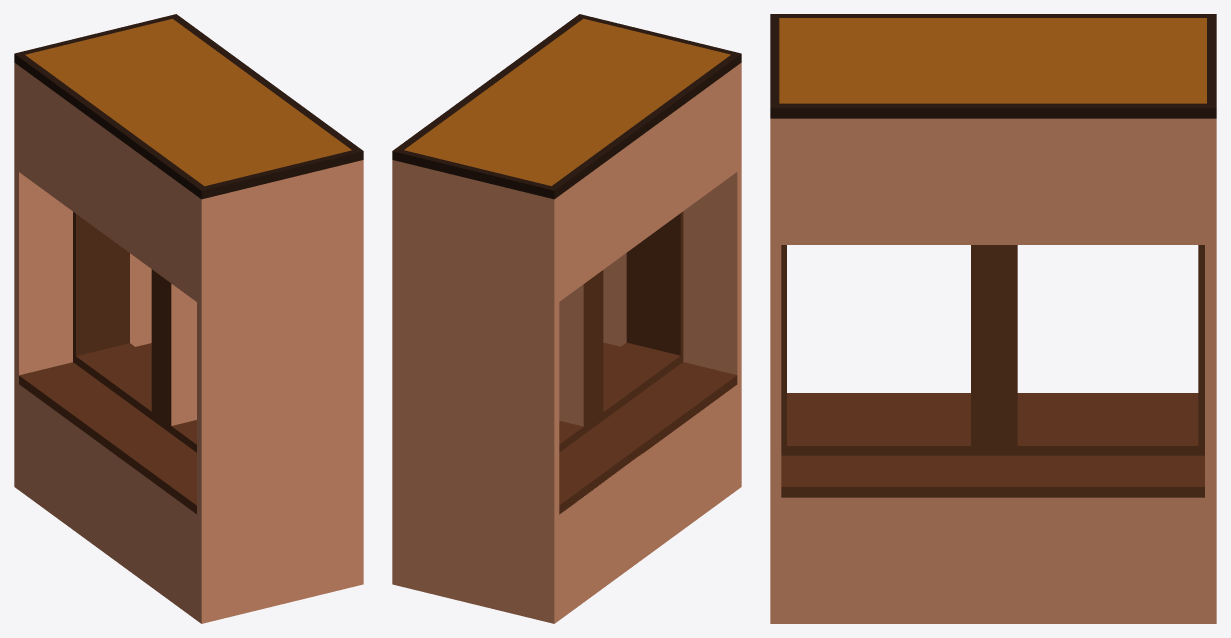
Rendered from WindowWallSegment.glb.
The picture shows the model from 3 angles, left to right: view 1: azimuth 30°, elevation 25°; view 2: azimuth 150°, elevation 25°; view 3: azimuth 270°, elevation 25°; orthographic projection. The views are drawn at different scales.
Visible parts, largest first — view 1: Cube.018; view 2: Cube.018; view 3: Cube.018.
Part boxes in pixels (x1,y1,x2,y2): Cube.018: [14, 14, 363, 623]; Cube.018: [392, 14, 741, 623]; Cube.018: [770, 14, 1216, 623].
Bounding box in the file's own units: 2 × 5.1 × 4.
